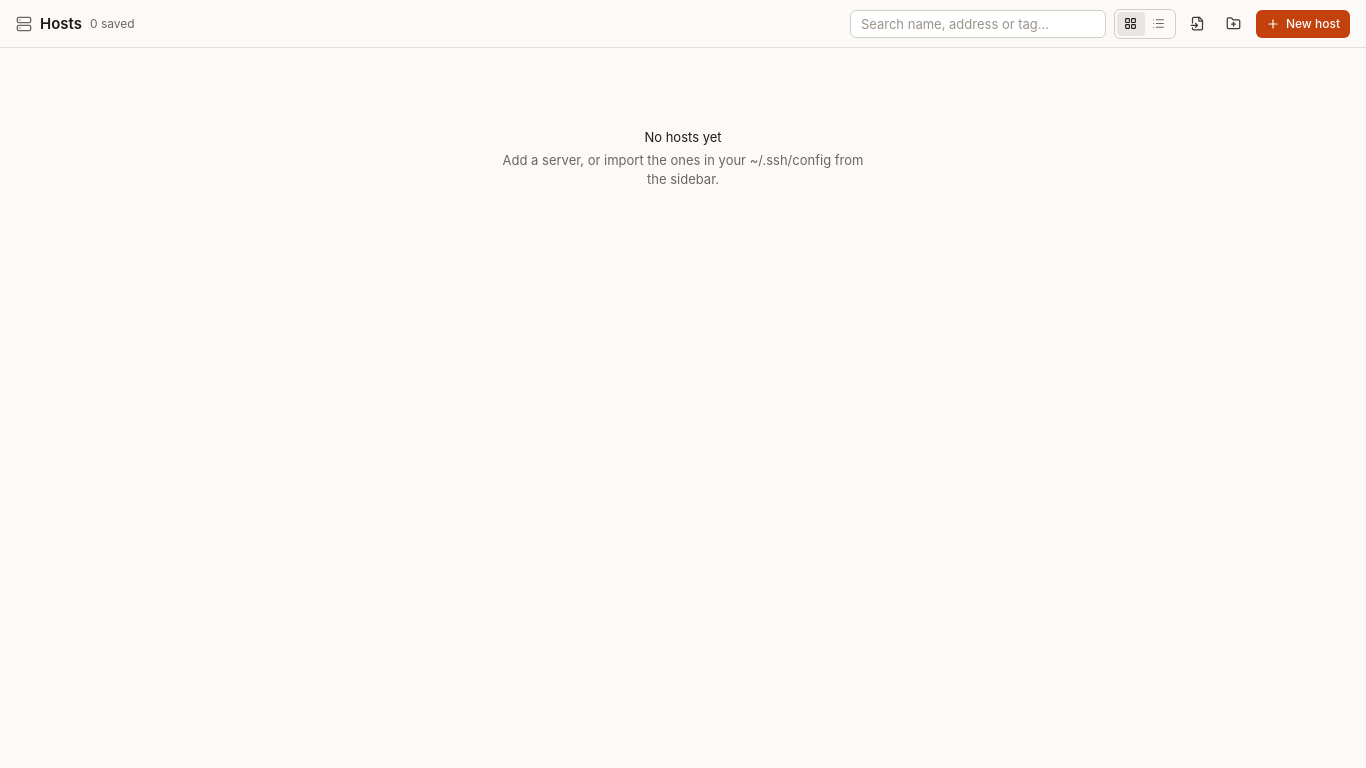
Test case: Managing hosts and groups › selects a key imported from inside the host dialog
Click the button "New host" at (1303, 24), box [1256,10,1350,38]
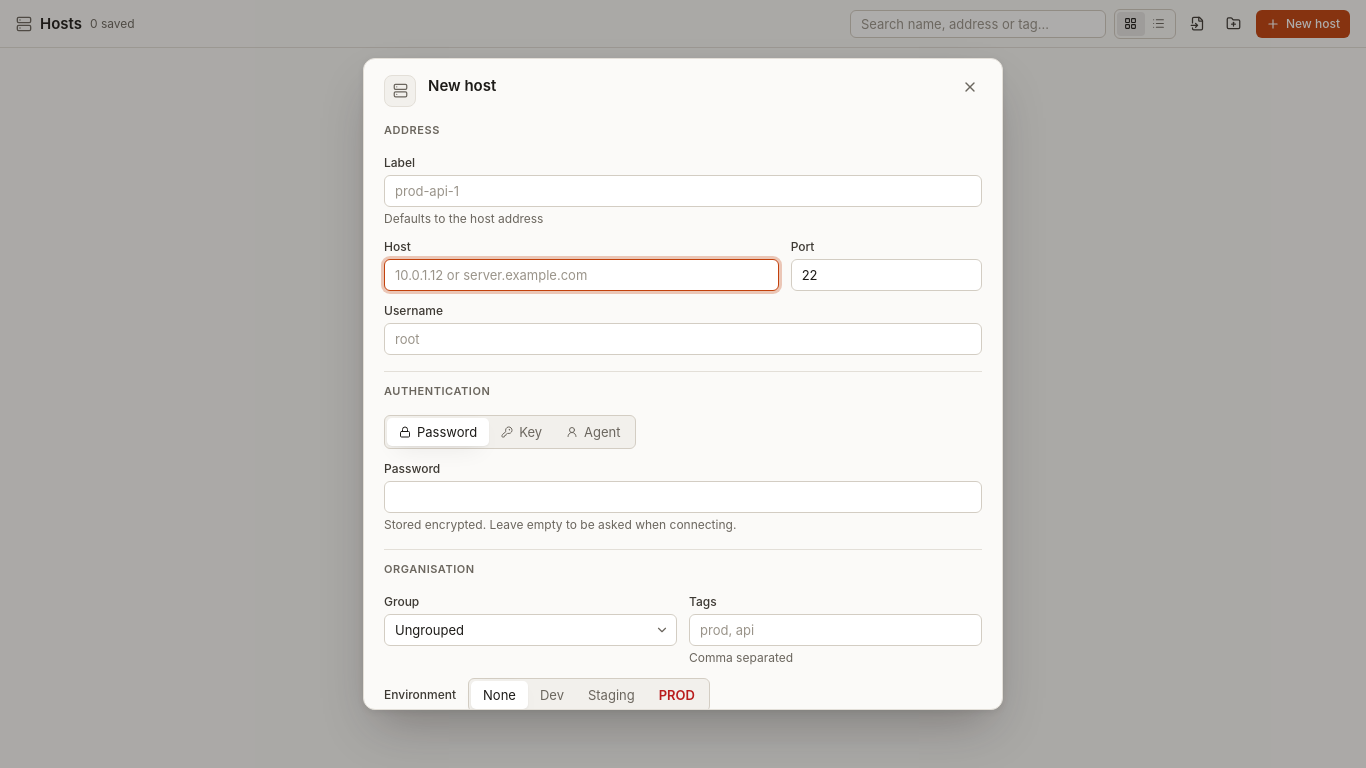
Click the radio button labelled "Key" at (522, 432), box [489,418,554,446]
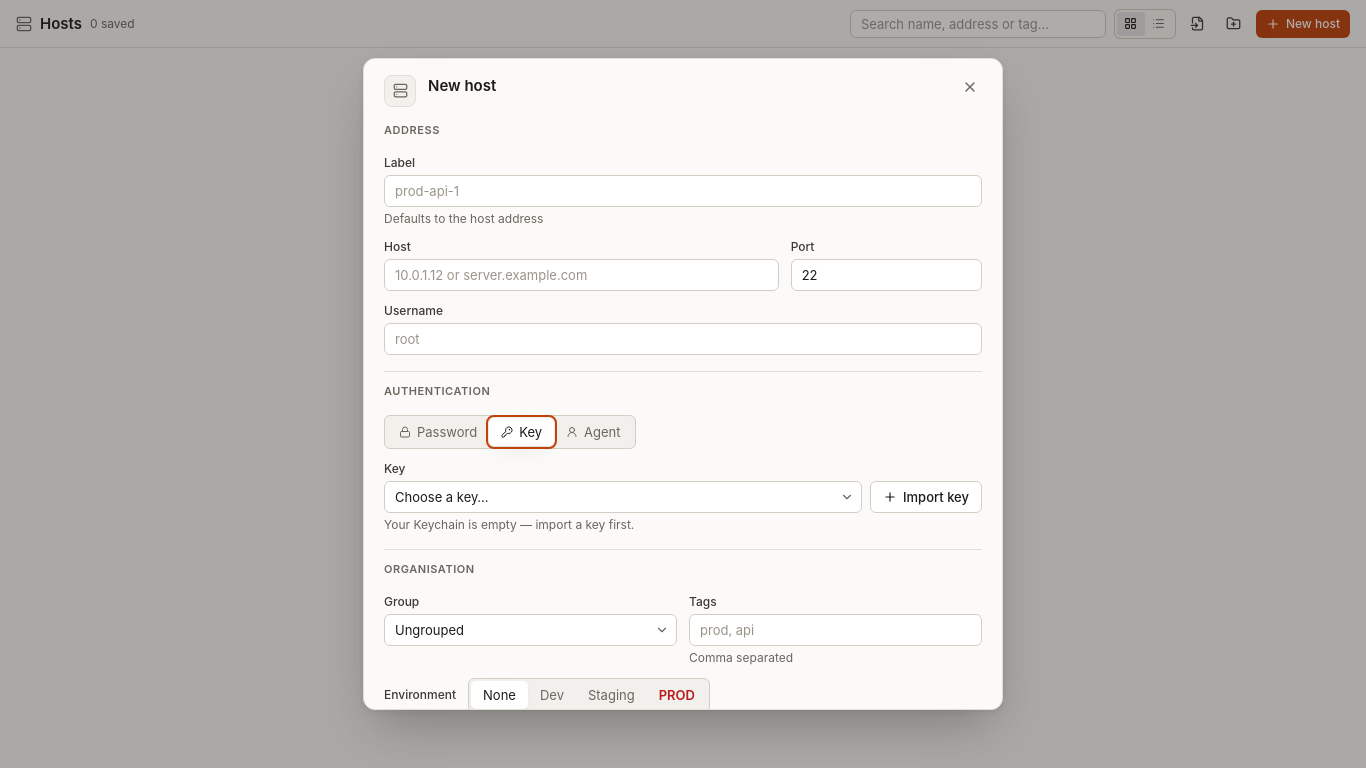
Click the button "Import key" at (926, 498), box [870,482,982,514]
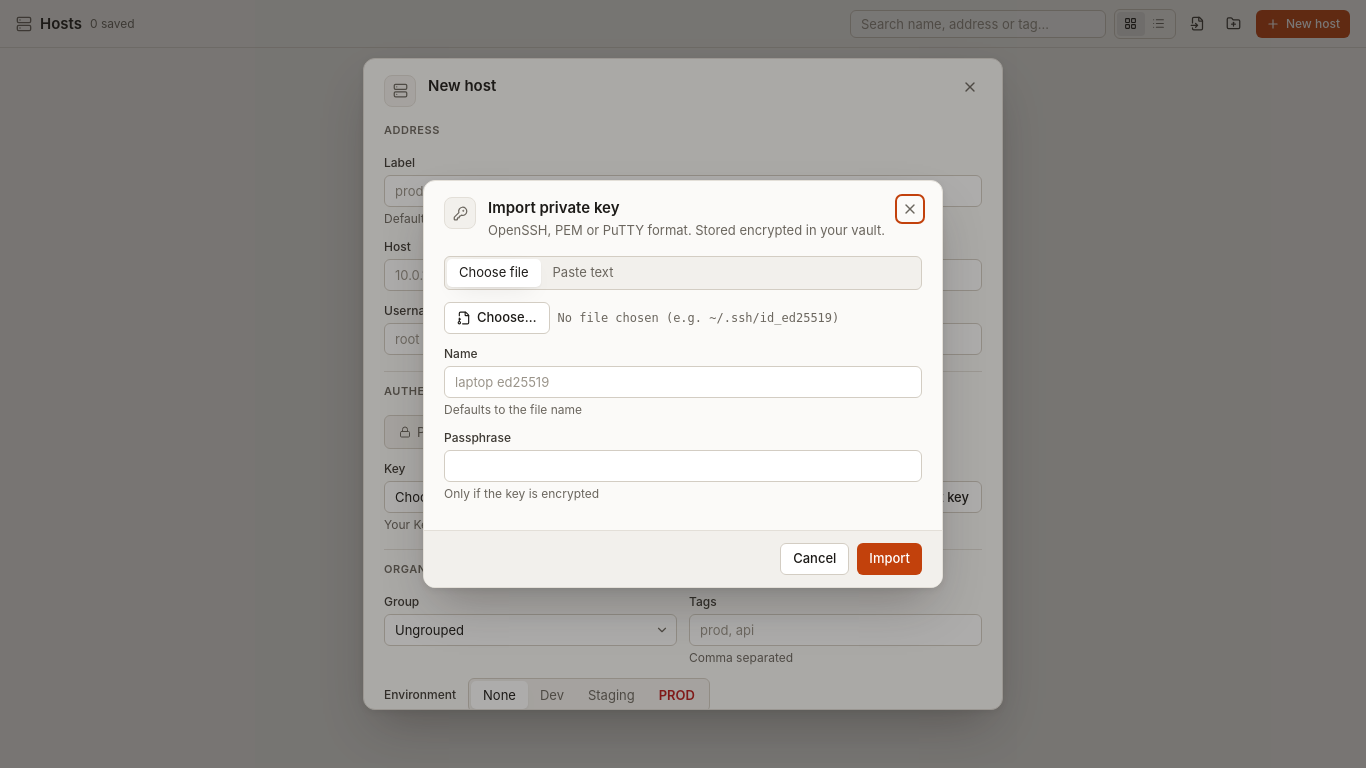
Click the radio button labelled "Paste text" at (583, 273), box [541,259,625,287]
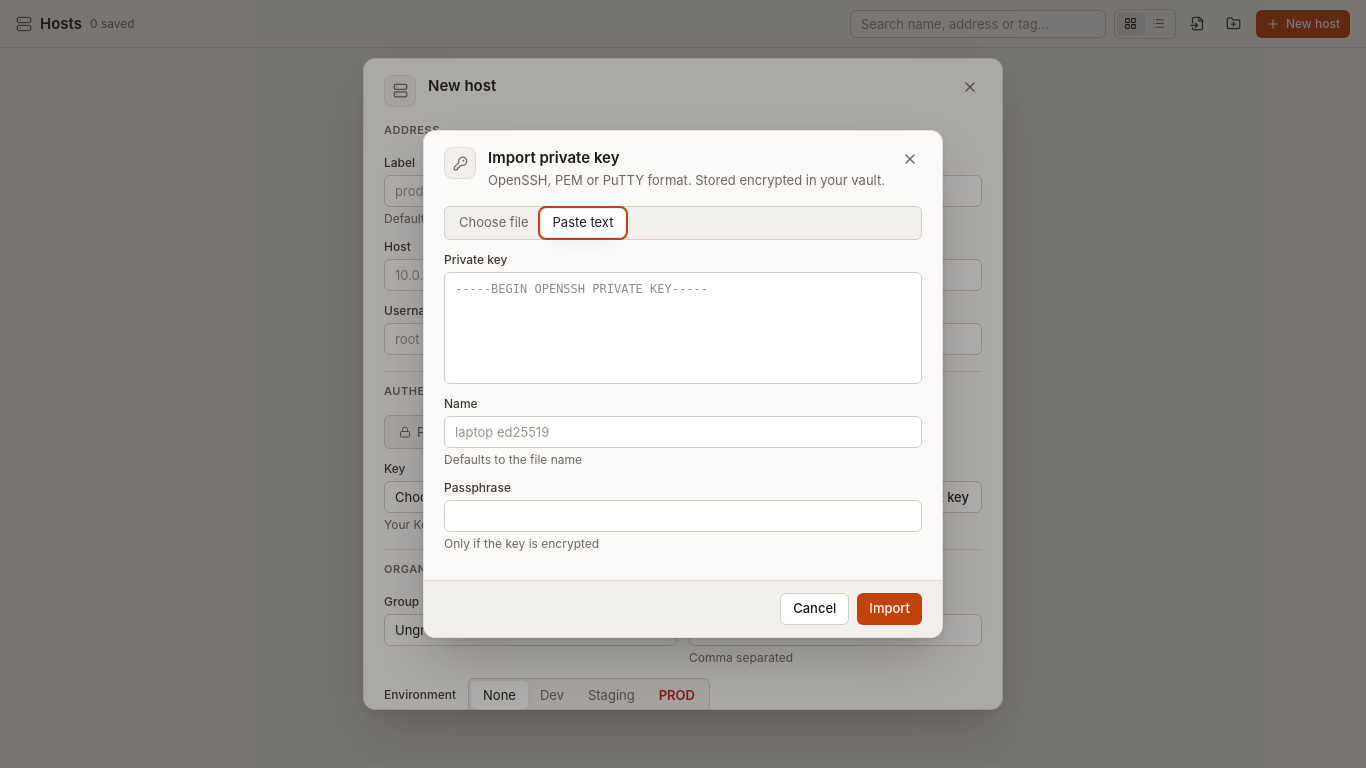
Type "pem" into the text box labelled "Private key" at (683, 328), box [444,272,922,384]
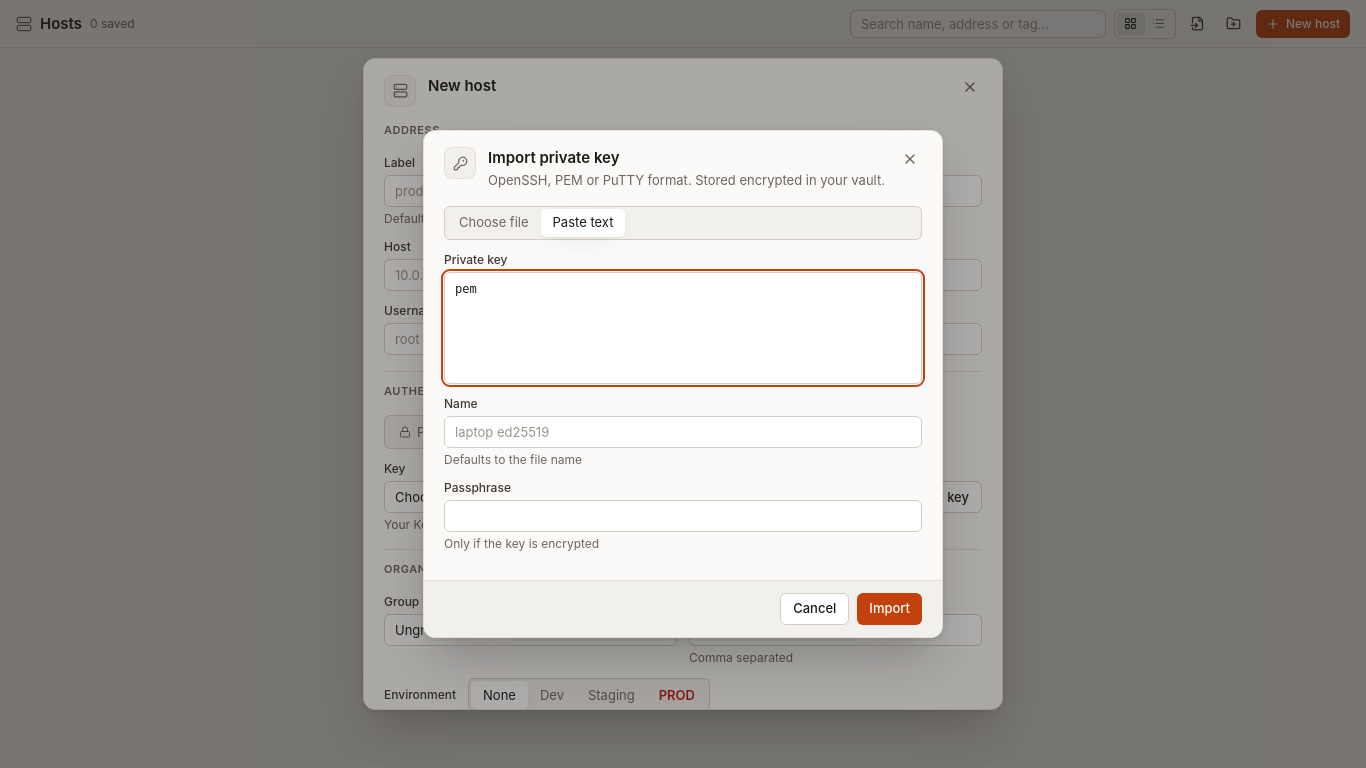
Click the button "Import" at (890, 609), box [857,593,922,625]
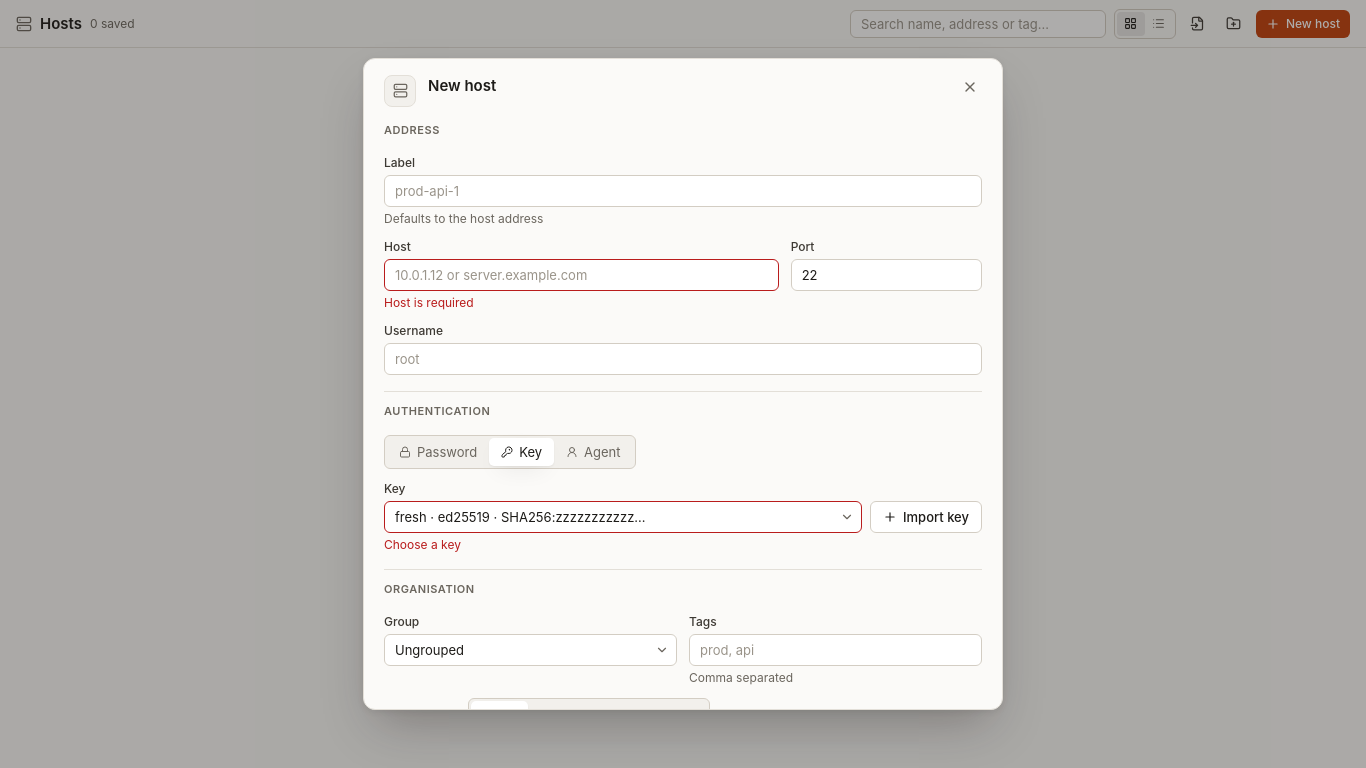
Result: the dropdown labelled "Key" shows "fresh · ed25519 · SHA256:zzzzzzzzzzz…" at [384,502,862,534]
